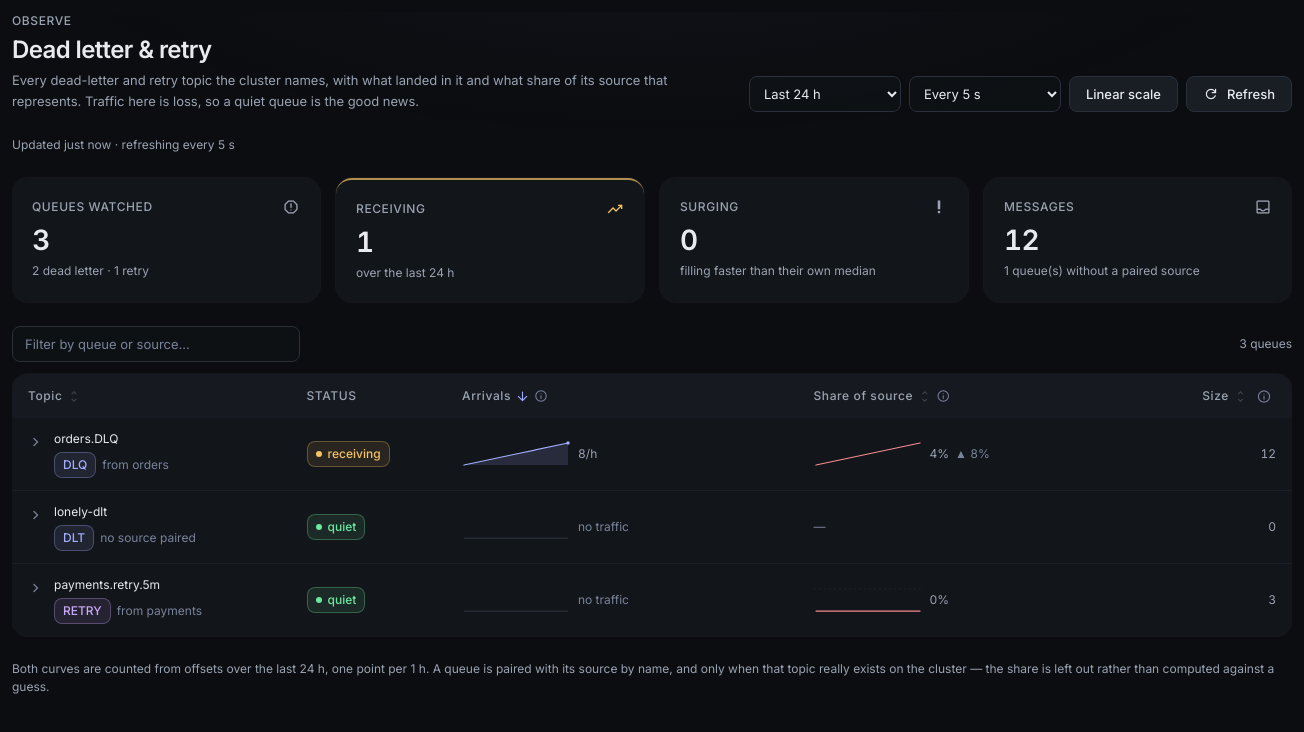
Test: DeadLetter › sorts by volume first, reverses on a second activation, and says which column sorts
Expected: the text "receiving" is shown, [306,441,390,467]
Step 1. Click the button with aria-label "Sorted by this column, descending" → (496, 396), box [462,384,530,408]
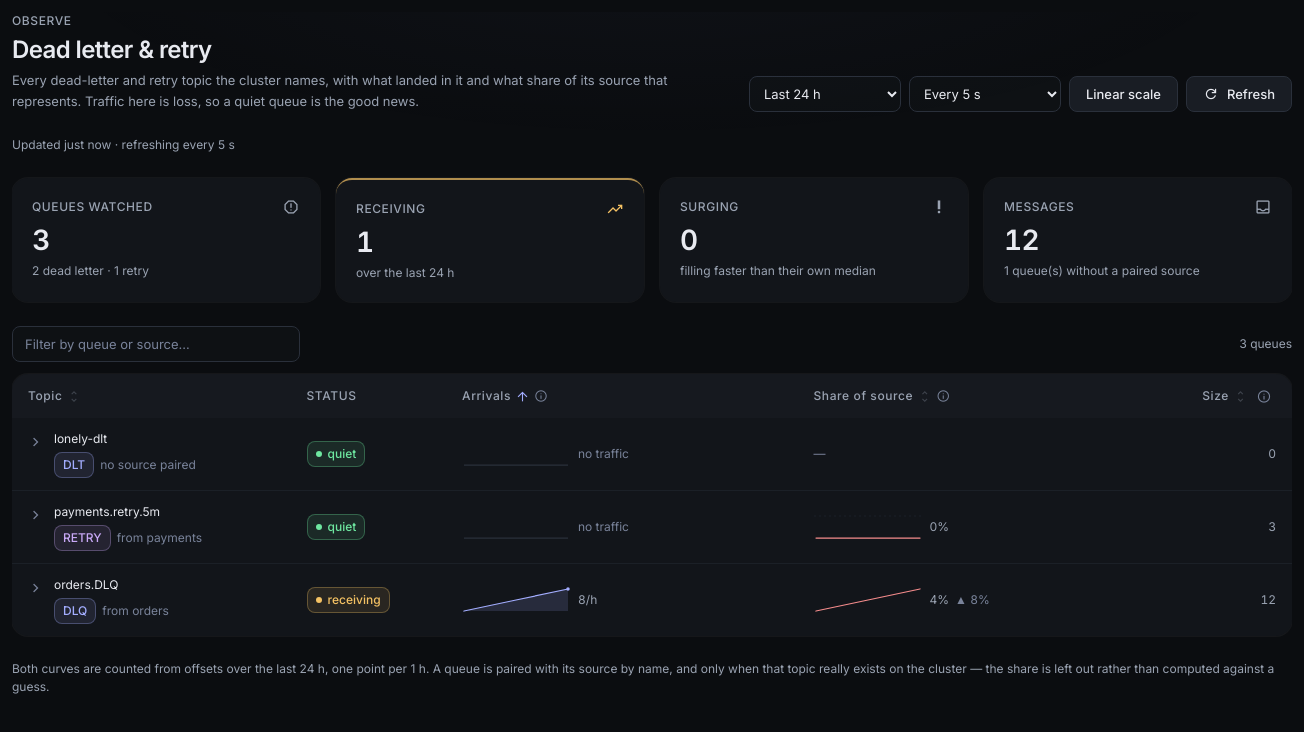
Expected: the link does not show "orders.DLQ"
Expected: the button with aria-label "Sorted by this column, ascending" is shown, [462,384,530,408]
